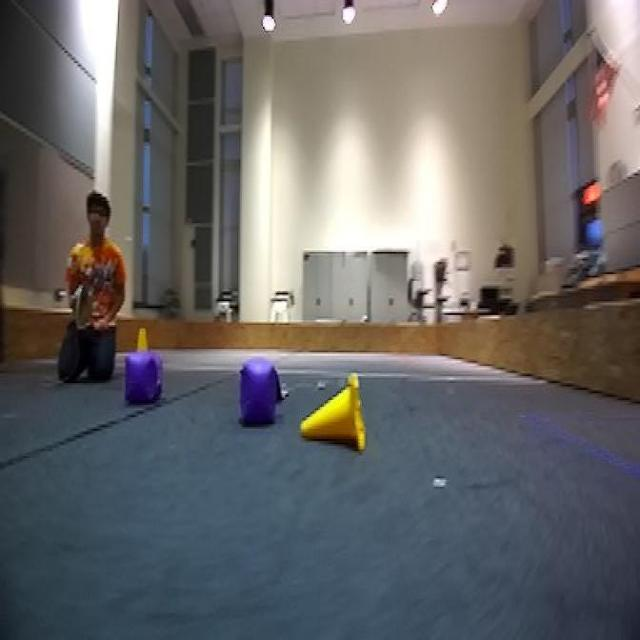frc_cone: (293, 366, 367, 458), (122, 322, 157, 356)
frc_cube: (232, 356, 278, 430), (123, 349, 152, 408)
